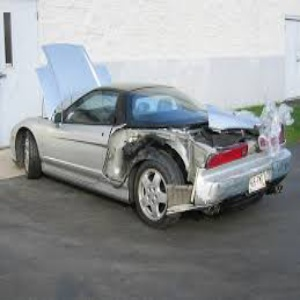door: (73, 126, 130, 186)
